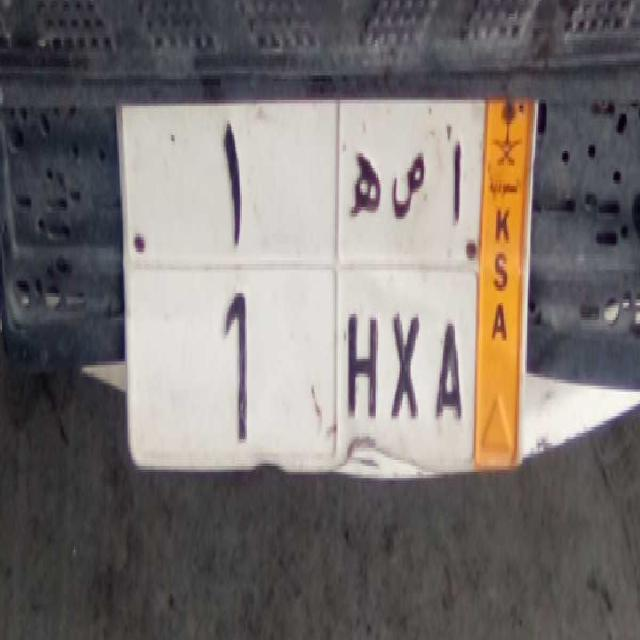license_plate: (124, 262, 477, 482)
